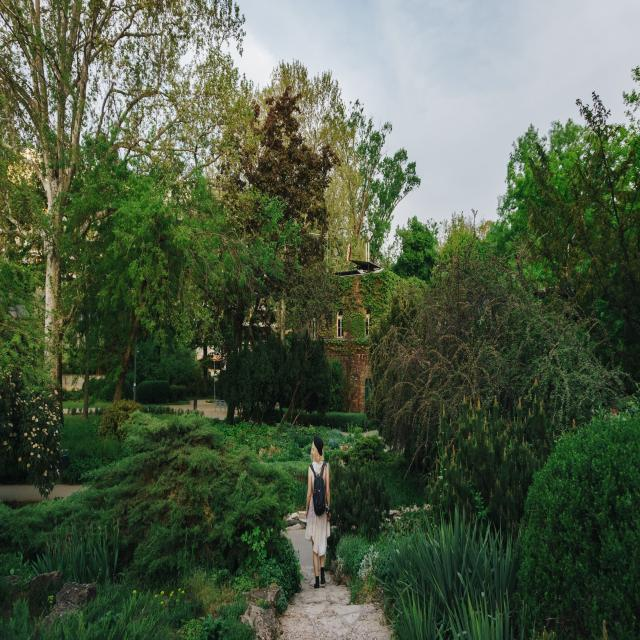adult: (304, 432, 330, 586)
